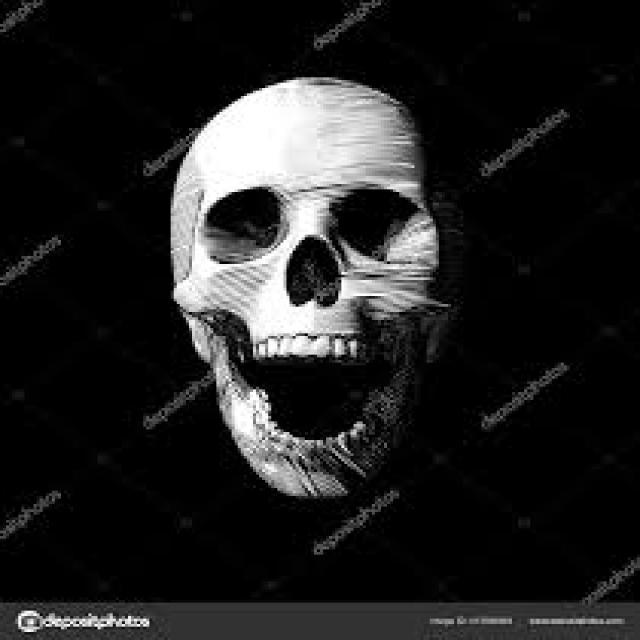skull: (170, 71, 482, 524)
